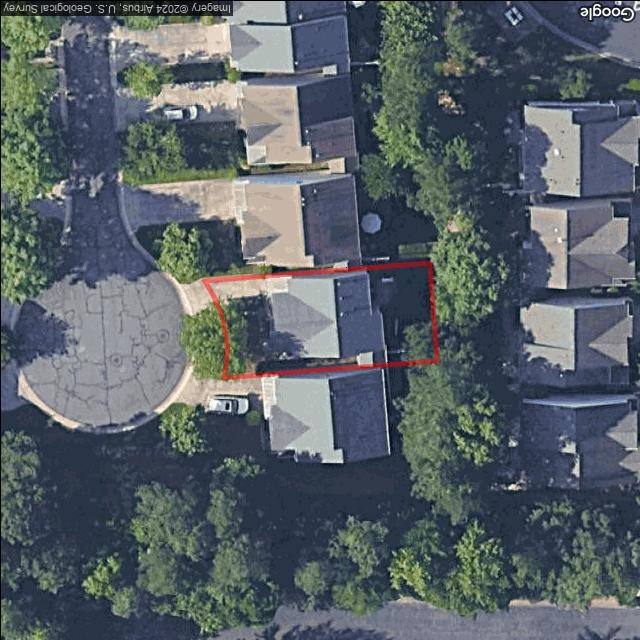Driveway: (200, 273, 292, 300)
Extra-Driveway: (178, 278, 213, 315)
Extra-Lawn: (191, 302, 226, 377)
House: (267, 271, 384, 359)
Lawn: (201, 263, 436, 378)
Other: (356, 350, 387, 365), (380, 276, 394, 283)
Sidewalk: (262, 294, 274, 319)
